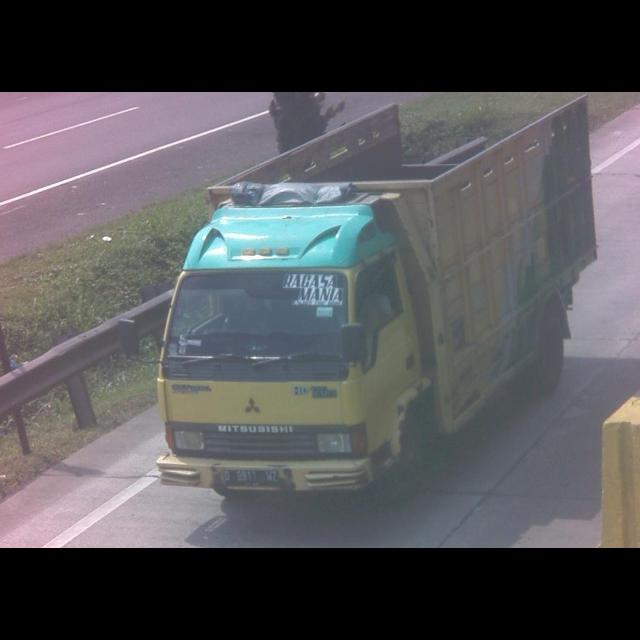plate: (220, 467, 284, 491)
